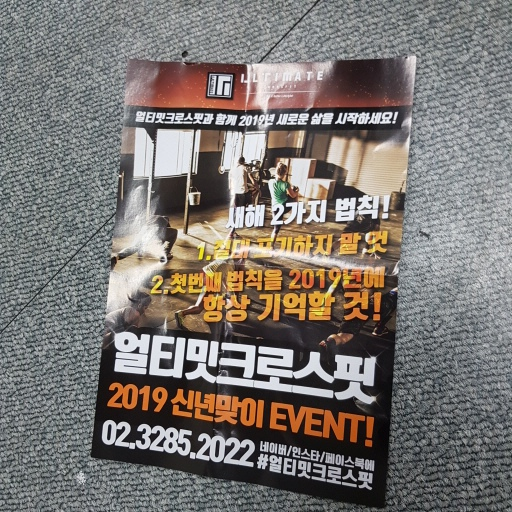Paper_2: (88, 45, 418, 512)
